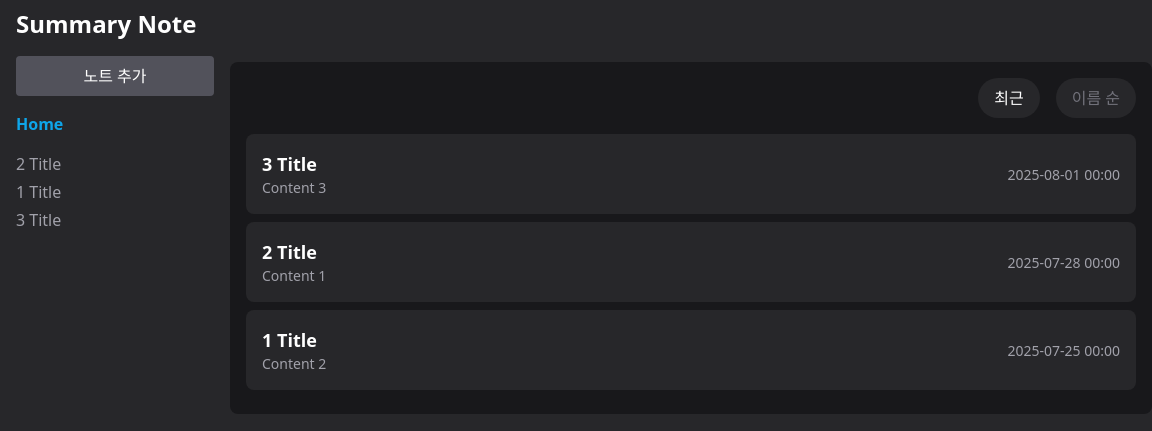
Test: 노트 정렬 › 버튼 클릭 후 정렬
Step 1. Click the button "최근" → (1009, 98), box left=978, top=78, right=1040, bottom=118
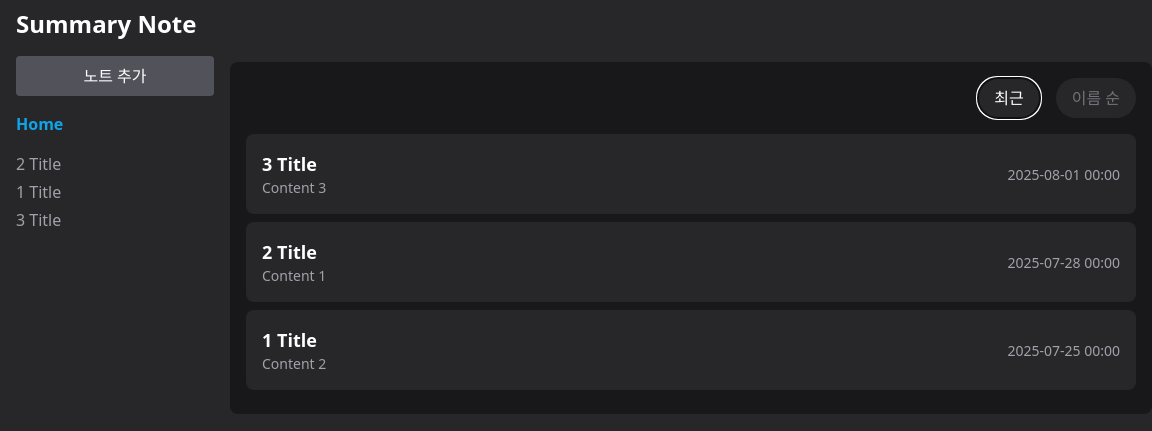
Check: the elements with test id "note-title" read "3 Title", "2 Title", "1 Title", in this order, box left=262, top=150, right=326, bottom=178; left=262, top=238, right=326, bottom=266; left=262, top=326, right=326, bottom=354
Step 2. Click the button "이름 순" → (1096, 98), box left=1056, top=78, right=1136, bottom=118
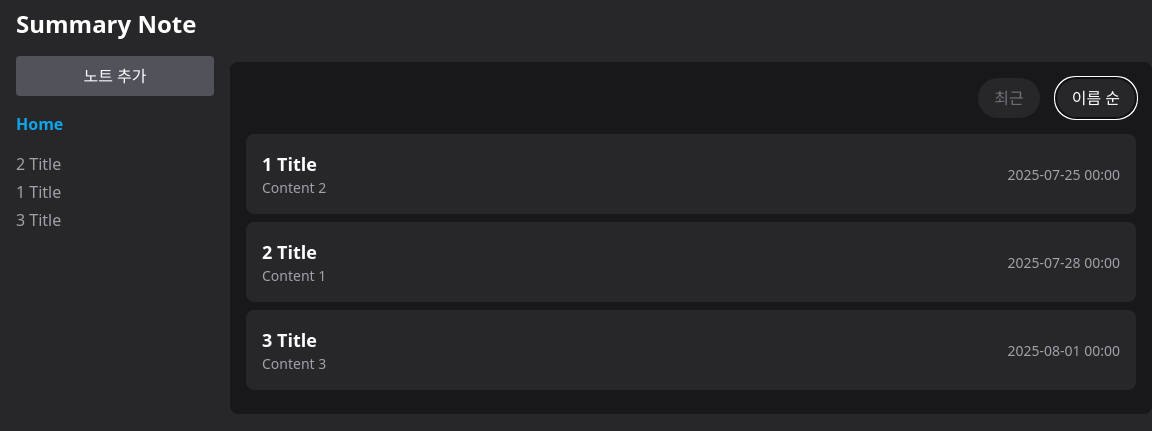
Check: the elements with test id "note-title" read "1 Title", "2 Title", "3 Title", in this order, box left=262, top=150, right=326, bottom=178; left=262, top=238, right=326, bottom=266; left=262, top=326, right=326, bottom=354
